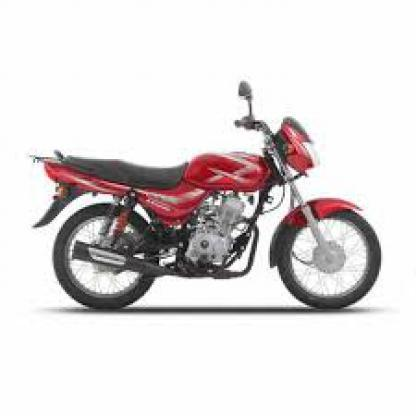Motorcycle: (22, 73, 391, 322)
